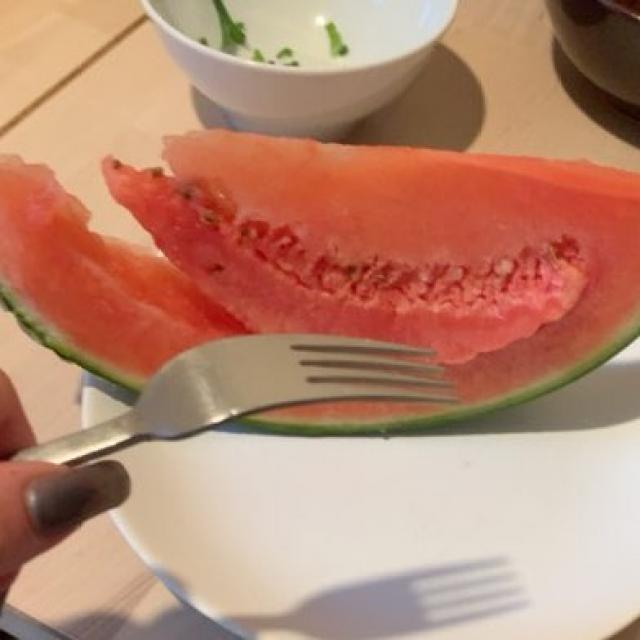watermelon-fresh: (12, 121, 638, 397)
